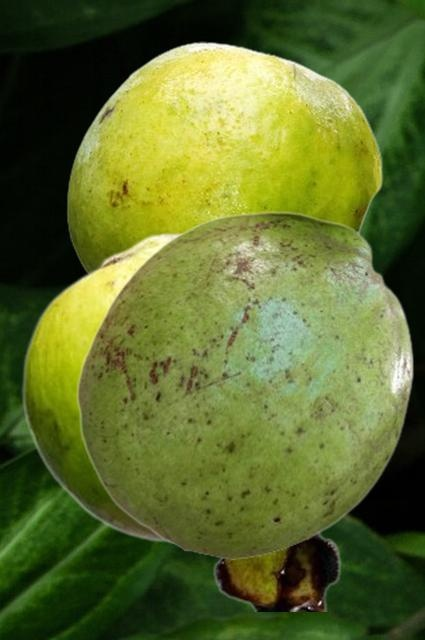guava: (21, 232, 342, 610), (75, 211, 413, 558), (66, 41, 382, 272)
